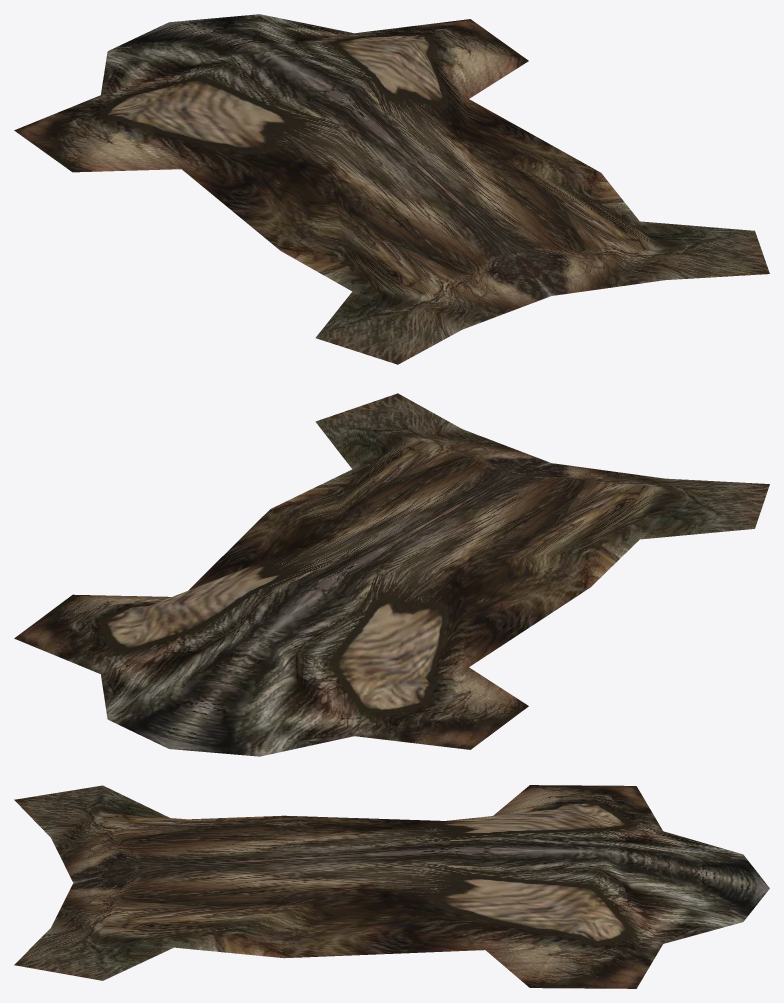
File: ITAT_TROLLFUR.glb
3 renders of one model, top to bottom at view 1: azimuth 30°, elevation 25°; view 2: azimuth 150°, elevation 25°; view 3: azimuth 270°, elevation 25°, orthographic. The views are drawn at different scales.
Visible parts, largest first — view 1: ITAT_TROLLFUR; view 2: ITAT_TROLLFUR; view 3: ITAT_TROLLFUR.
Boxes of the visible parts, bbox=[...] form: ITAT_TROLLFUR: bbox=[14, 14, 769, 364]; ITAT_TROLLFUR: bbox=[14, 393, 769, 756]; ITAT_TROLLFUR: bbox=[14, 785, 769, 988].
Size of the model in its own units: 1.08 by 0.1031 by 1.7.
Materials: 1 (1 with a texture image).
